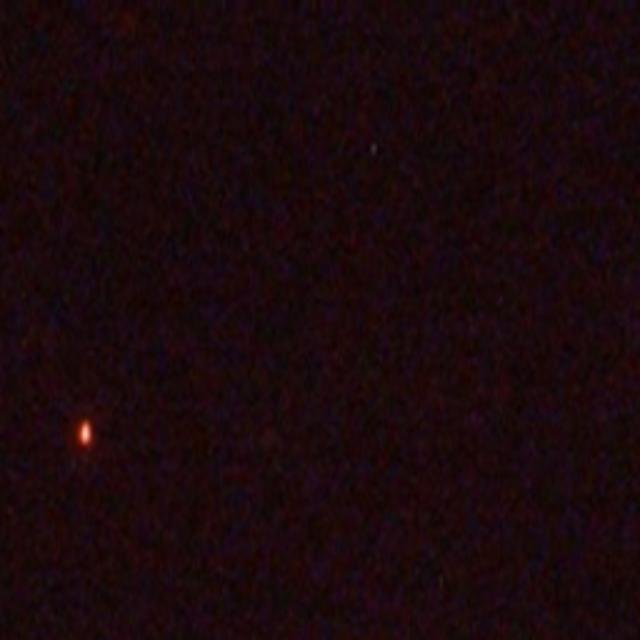Fragment: (72, 420, 98, 450)
